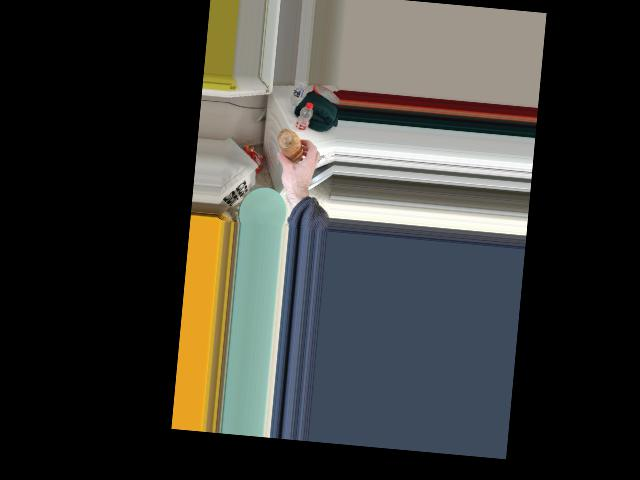sweet_potato: (275, 128, 306, 165)
